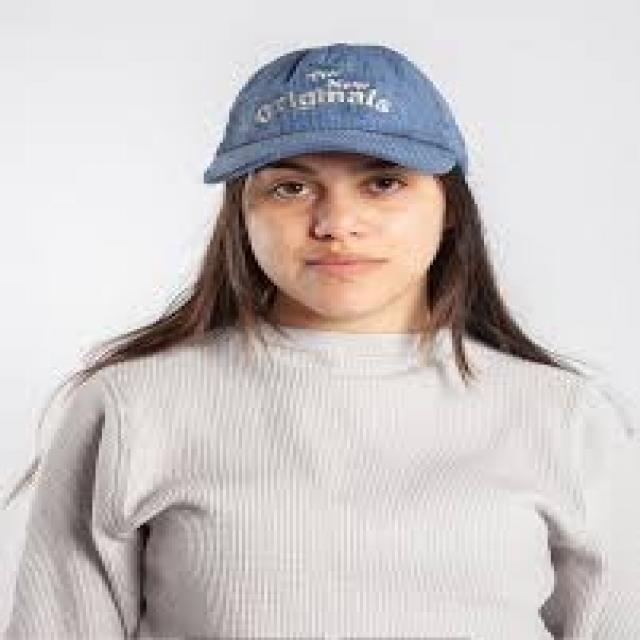hat: (191, 32, 480, 189)
